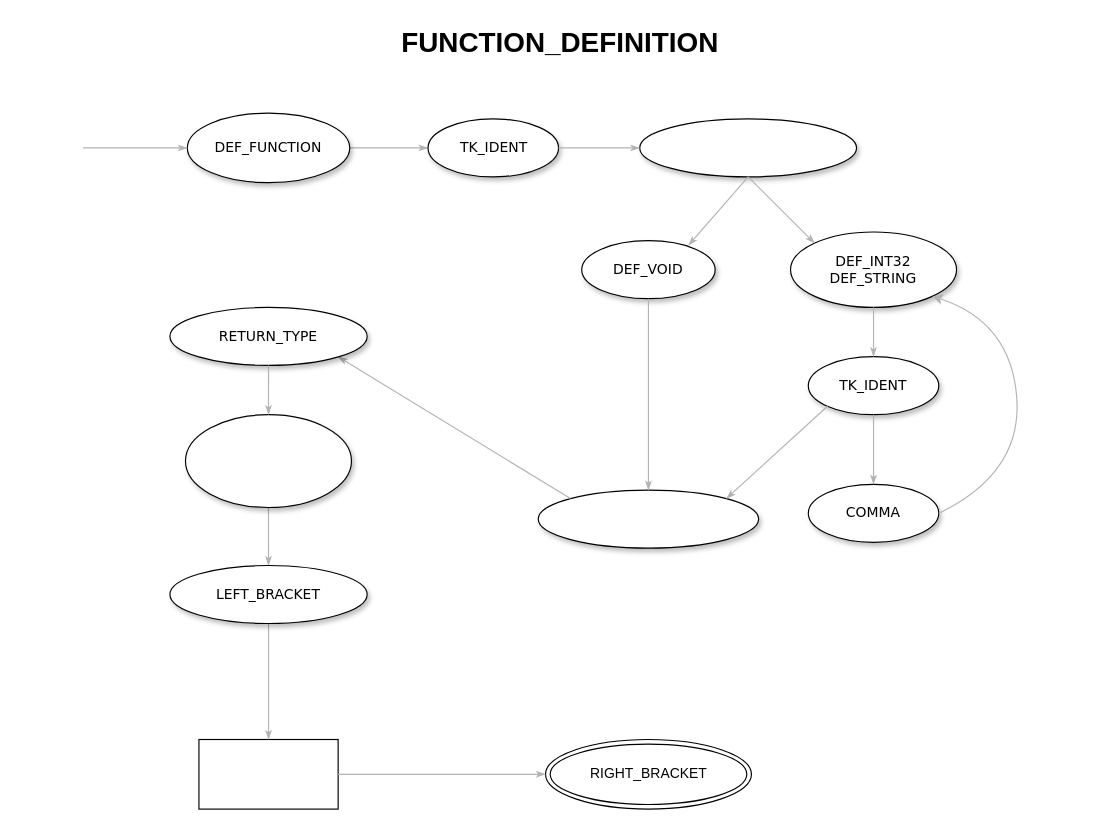
Image size: 1118x829. Some labels were removed from this diagram. Here are the shapes that lost their labels. From the top down, the centre of each, then its label:
At (x=749, y=149): "LEFT_PARENTHESE".
At (x=269, y=462): "DEF_VOID DEF_INT32 DEF_STRING".
At (x=649, y=520): "RIGHT_PARENTHESE".
At (x=268, y=773): "goto BLOCK".
